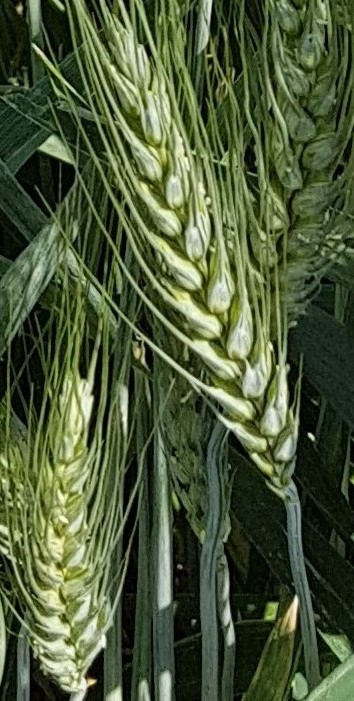Healthy Wheat: (92, 24, 310, 470)
